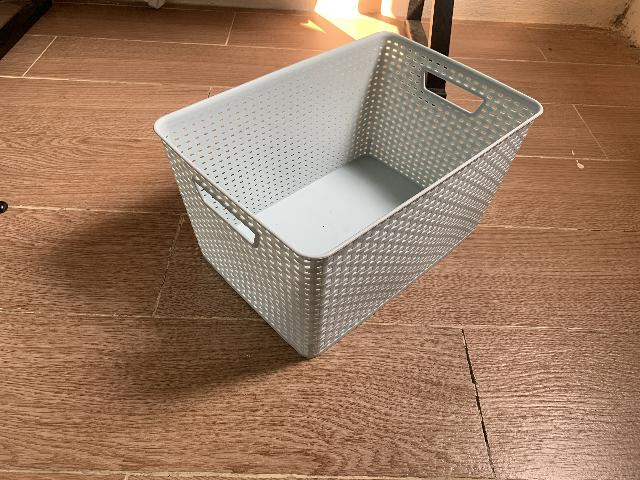cart: (152, 32, 543, 360)
